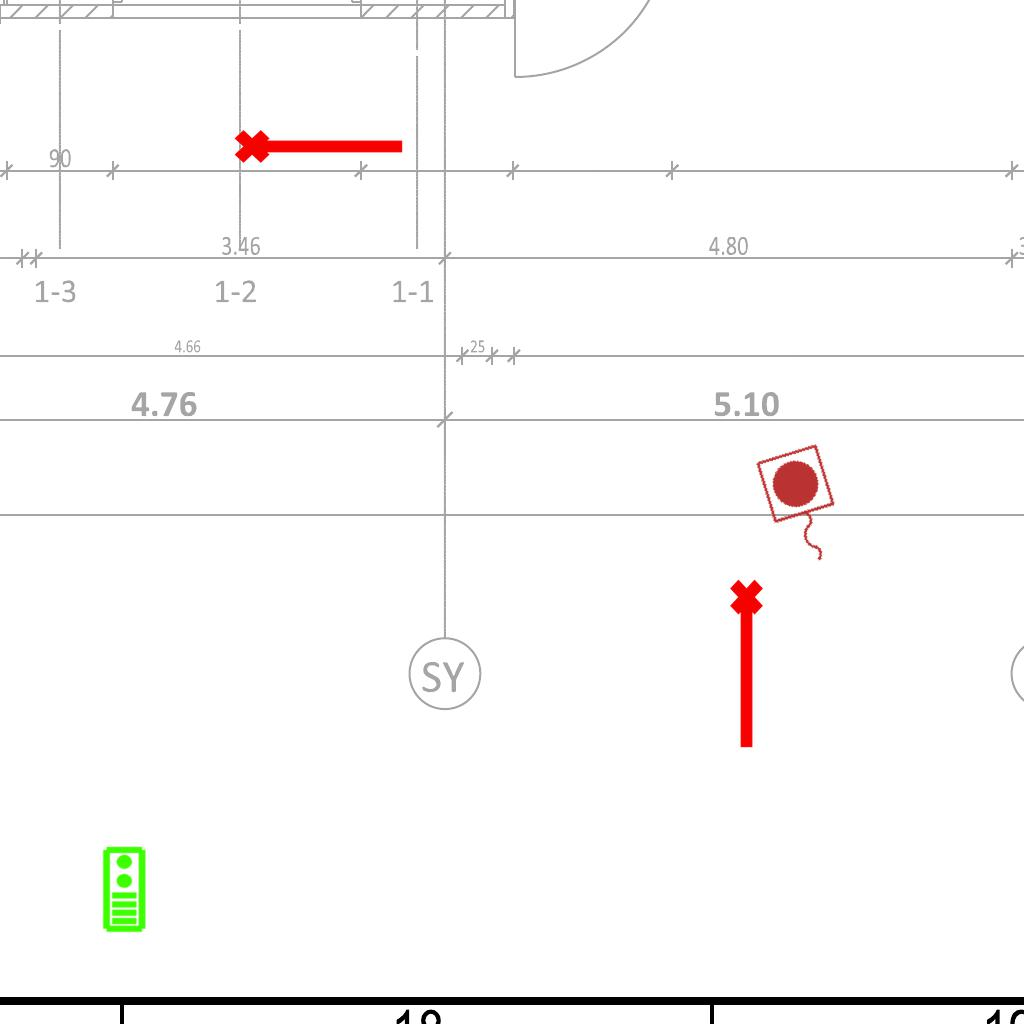ASR_Ansaugoeffnung: (232, 121, 408, 167), (726, 577, 772, 753)
Gegensprechanlage_mit_Video: (100, 845, 147, 933)
Zugtaster: (749, 439, 855, 577)
